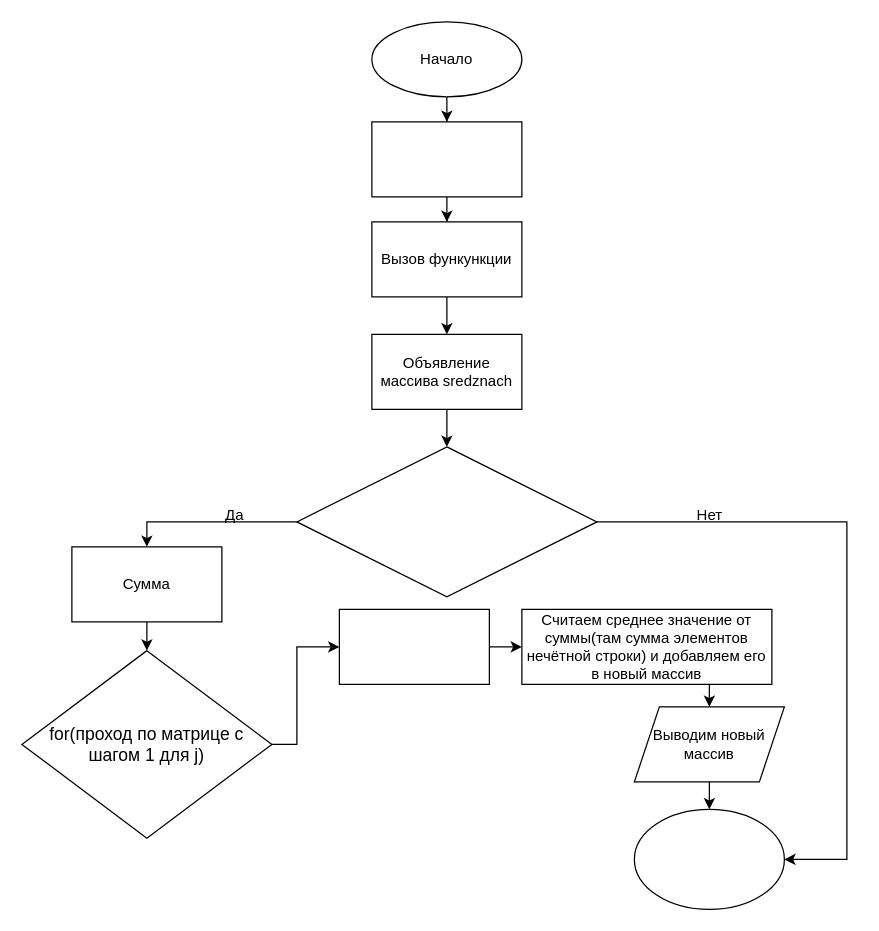
This 879x931 diagram has some shape labels left out. The centre of each missing label's shape, as x and y in pixels:
"for(проход по матрице с шагом 2 для i)" belongs at pixel 446 521.
"Добавляем в sum этот элемент" belongs at pixel 413 646.
"Конец" belongs at pixel 708 858.
"Объявление массива matrix" belongs at pixel 446 159.
